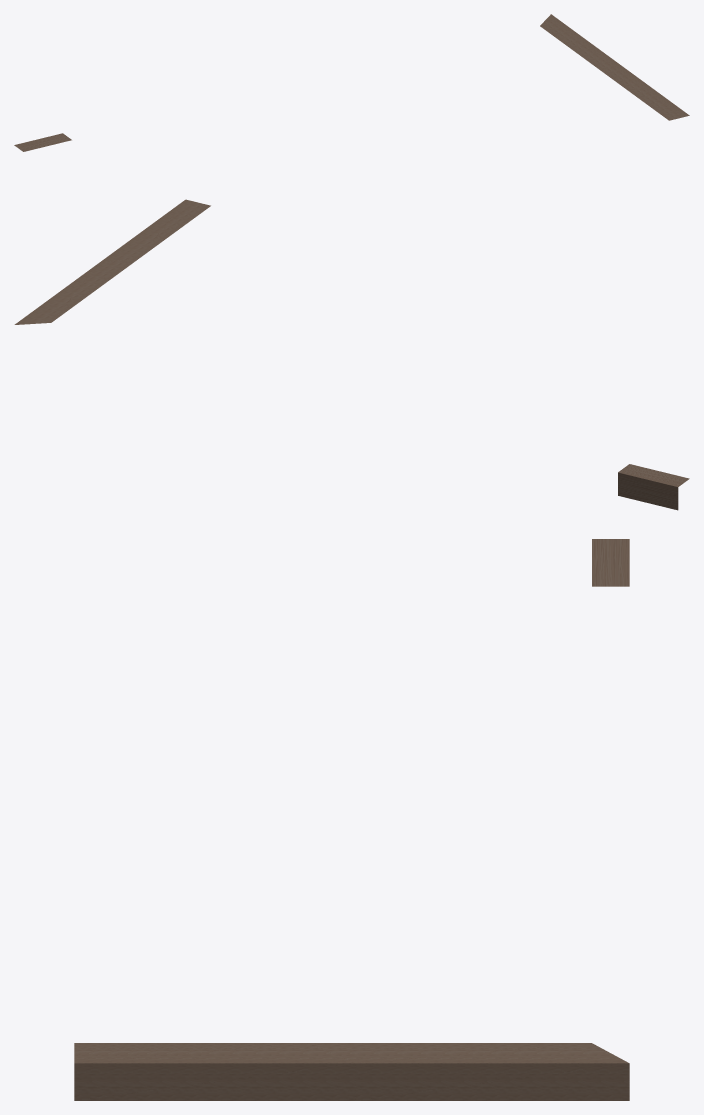
Rendered from kd_stage_135c43_4_9_bounded.glb.
3 views of the same model, one above another, from view 1: azimuth 30°, elevation 25°; view 2: azimuth 150°, elevation 25°; view 3: azimuth 270°, elevation 25° (orthographic). The views are drawn at different scales.
Parts seen in each view (by area): view 1: kd_stage_135c43_4_9_bounded; view 2: kd_stage_135c43_4_9_bounded; view 3: kd_stage_135c43_4_9_bounded.
Boxes of the visible parts, x1,y1,x2,y2 form: kd_stage_135c43_4_9_bounded: (14, 14, 689, 151); kd_stage_135c43_4_9_bounded: (14, 199, 689, 510); kd_stage_135c43_4_9_bounded: (74, 539, 629, 1100).
Bounding box in the file's own units: 3.85 × 0.1289 × 1.72.
Materials: 1 (1 with a texture image).
